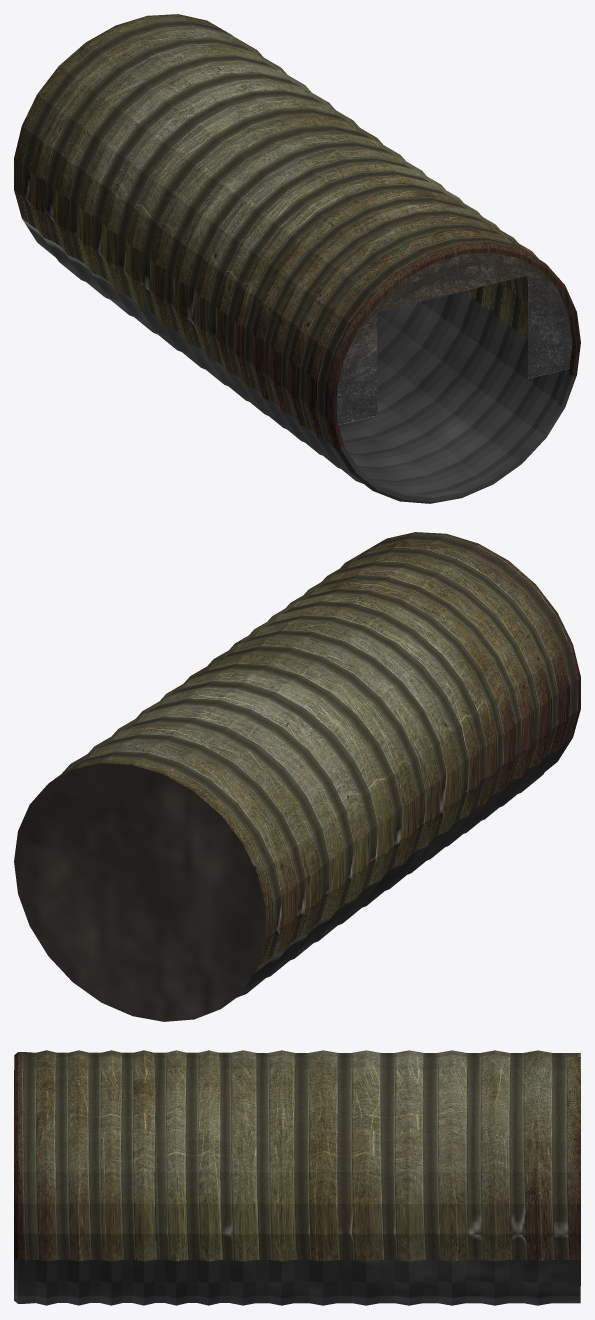
Rendered from Hangar Small.dae.
The picture shows the model from 3 angles, top to bottom: view 1: azimuth 30°, elevation 25°; view 2: azimuth 150°, elevation 25°; view 3: azimuth 270°, elevation 25°; orthographic projection. The views are drawn at different scales.
Visible parts, largest first — view 1: Cylinder3_copy7-0; view 2: Cylinder3_copy7-0; view 3: Cylinder3_copy7-0.
Boxes of the visible parts, box(x1,y1,x2,y2) form: Cylinder3_copy7-0: box(14, 14, 580, 503); Cylinder3_copy7-0: box(14, 532, 580, 1021); Cylinder3_copy7-0: box(14, 1050, 580, 1305).
Bounding box in the file's own units: 6.88 × 6.57 × 14.7.
